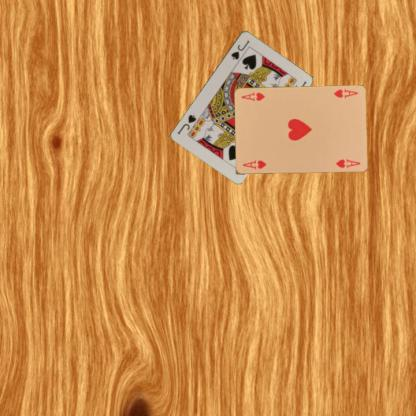Ah: (240, 158, 268, 170), (331, 87, 359, 99)
Js: (228, 38, 251, 60)
